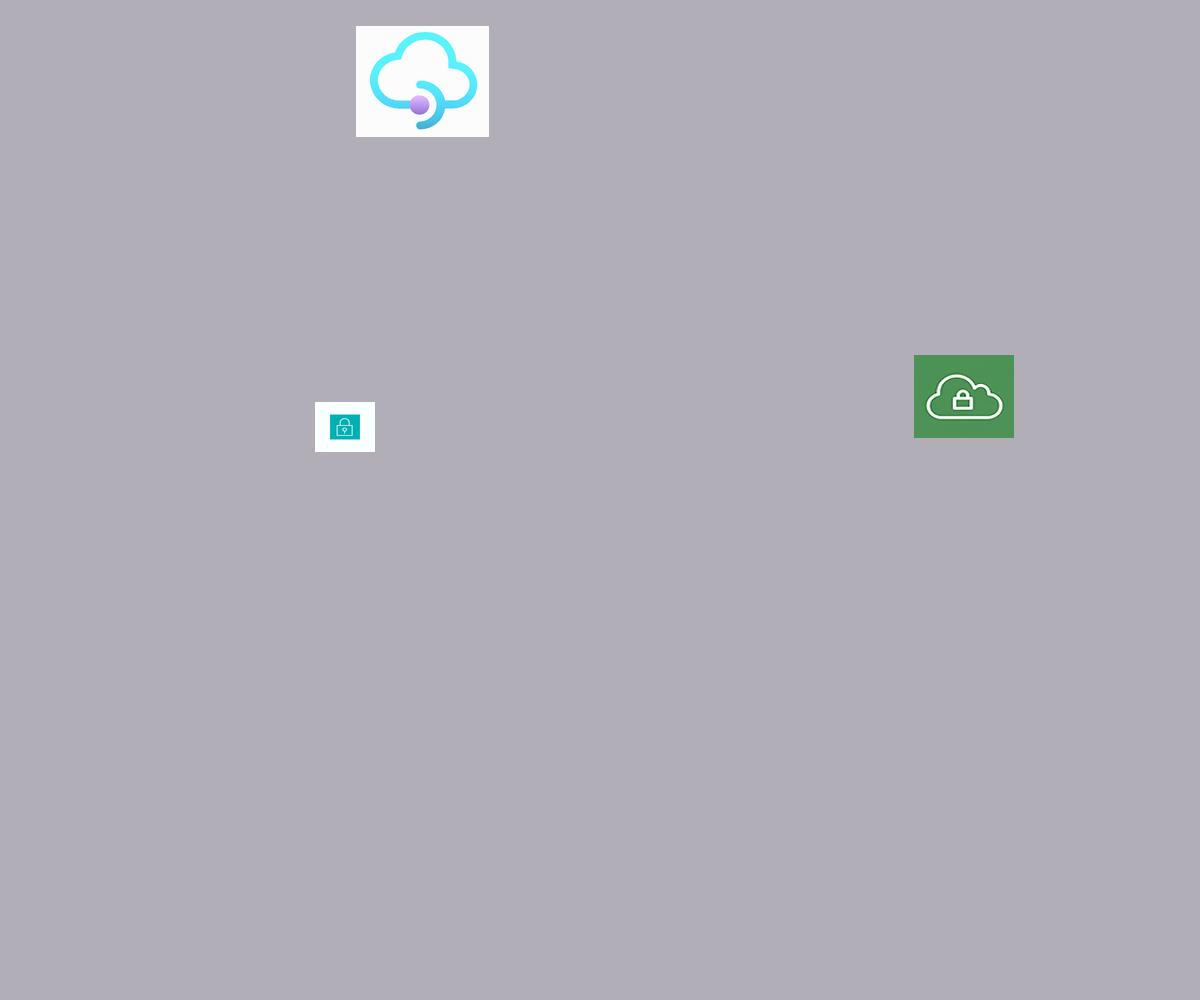AWS-Private-subnet: (315, 402, 375, 452)
AWS-Private_vpc: (914, 355, 1014, 438)
Azure_api_gateway: (356, 26, 489, 137)
